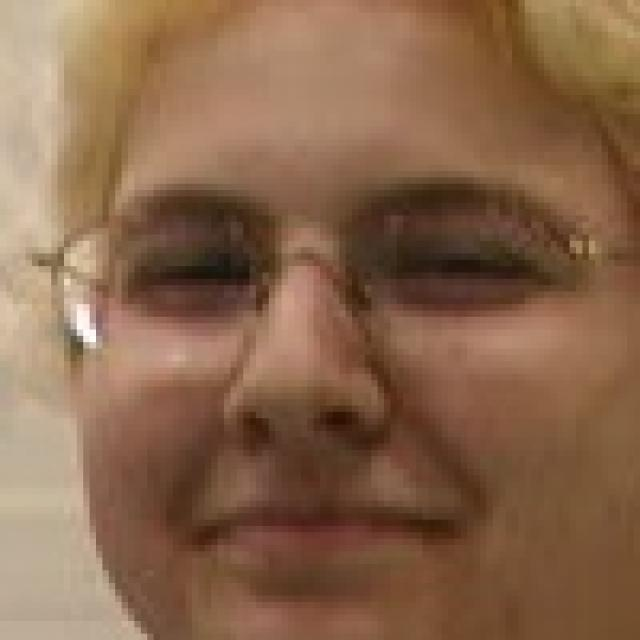Eyeclosed: (388, 231, 530, 300), (128, 246, 249, 299)
